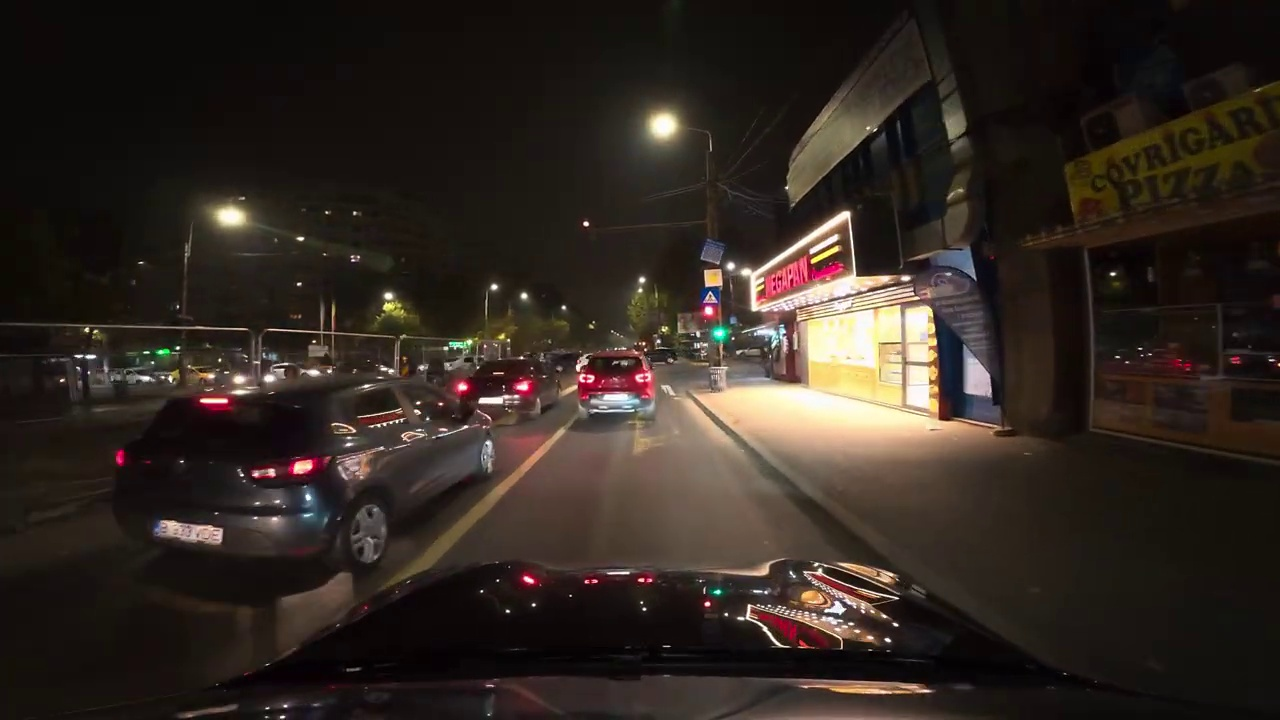acesa: (212, 203, 249, 232), (646, 111, 680, 141)
